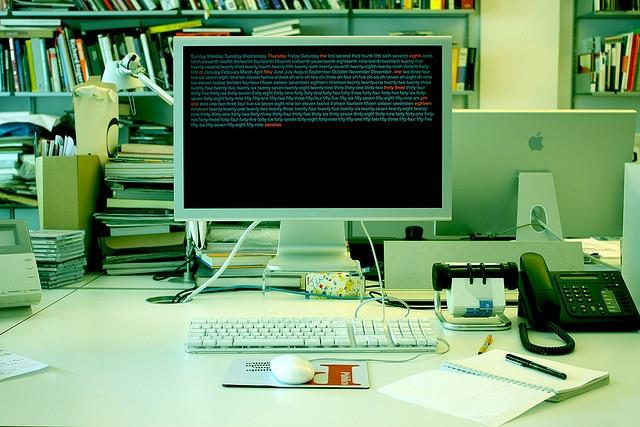apple: (528, 131, 544, 152)
